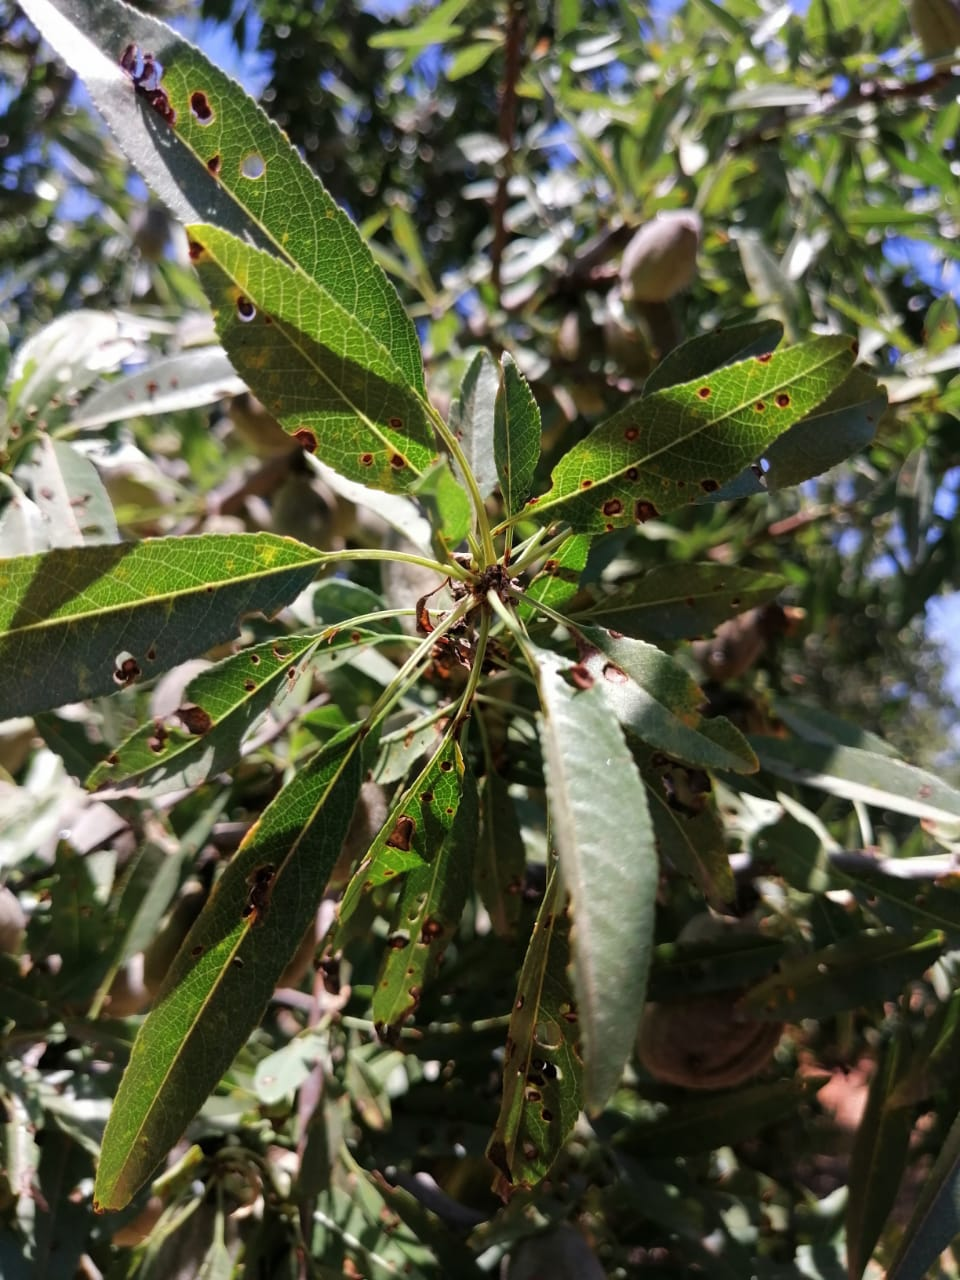coryneum: (90, 721, 379, 1218), (117, 1, 425, 399), (503, 330, 864, 530), (186, 221, 434, 503), (522, 642, 664, 1114), (79, 635, 324, 792), (367, 767, 476, 1027)
